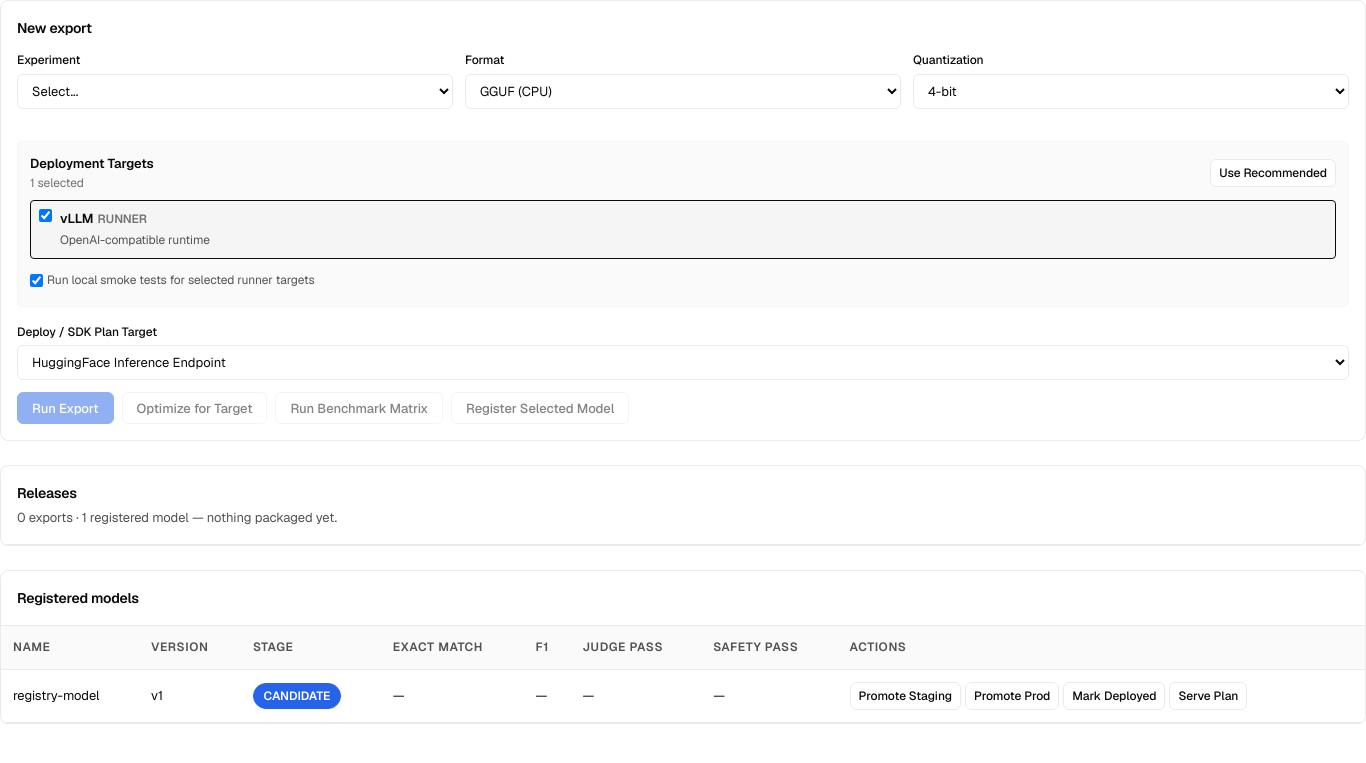
Scenario: ExportPanel serve run flow › shows measured vs estimated provenance in optimization tradeoff cards
This screenshot has width=1366, height=763.
Select "exp-1 (completed)" in the dropdown below "Experiment" at (235, 91), box [17,74,453,109]
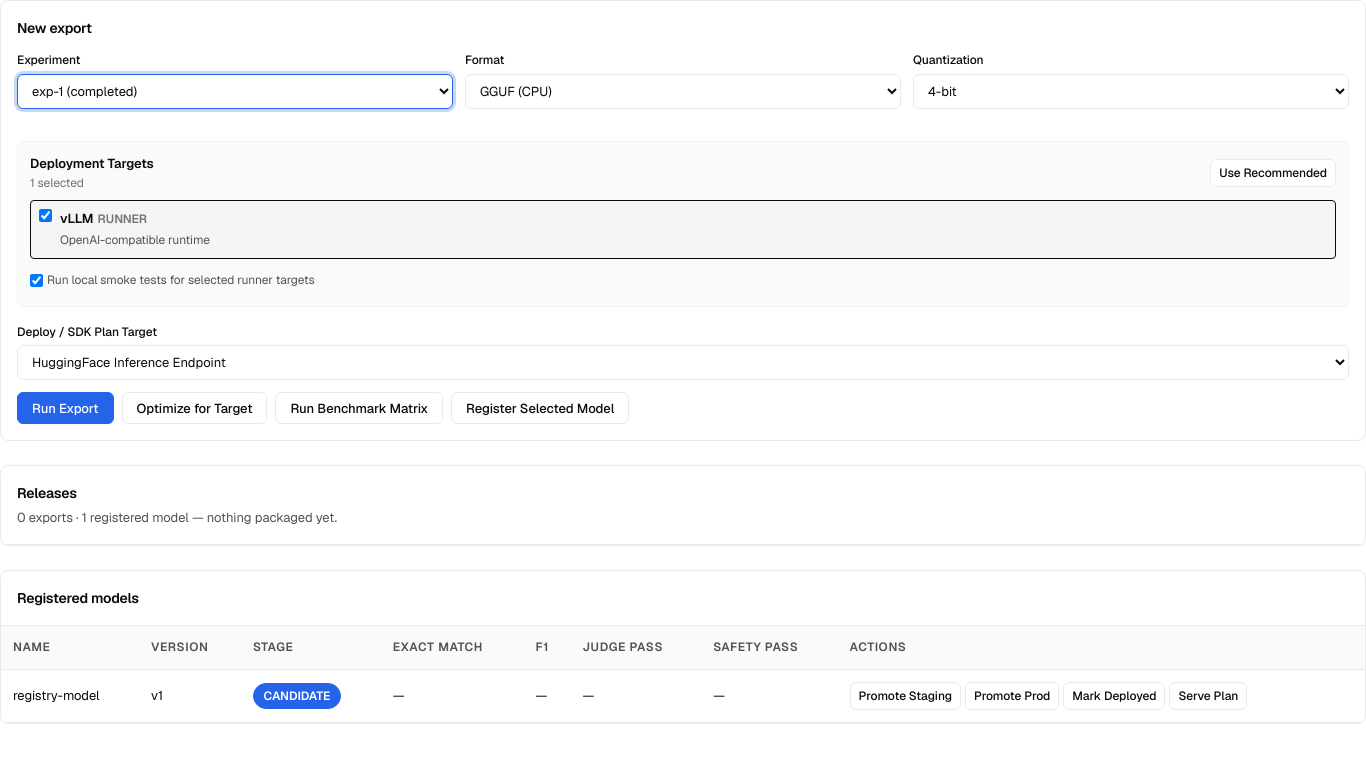
Click the button "Optimize for Target" at (195, 408), box [122,392,268,424]
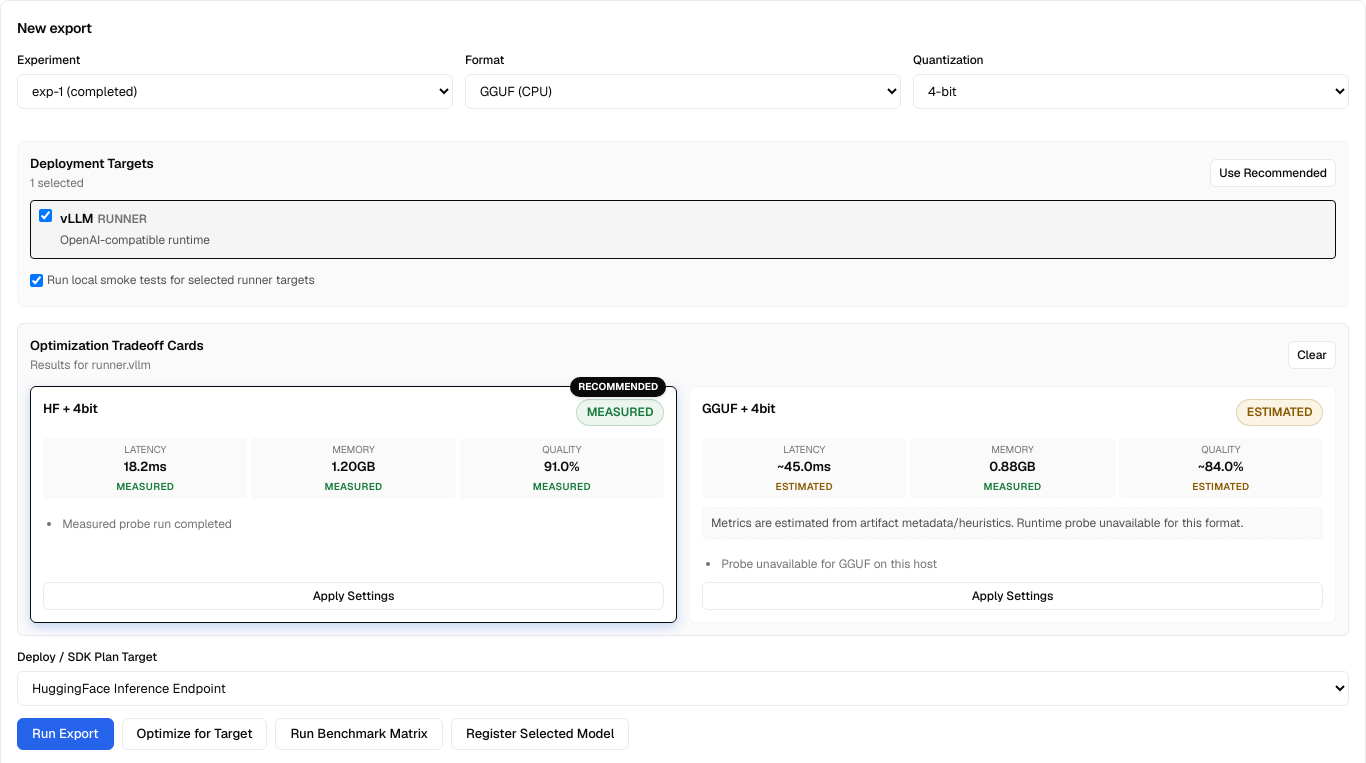
Expected: the text "Optimization Tradeoff Cards" is shown, [30,336,204,356]
Expected: the text named "Measured metrics" is shown, [576,399,664,426]
Expected: the text named "Estimated metrics" is shown, [1236,399,1323,426]
